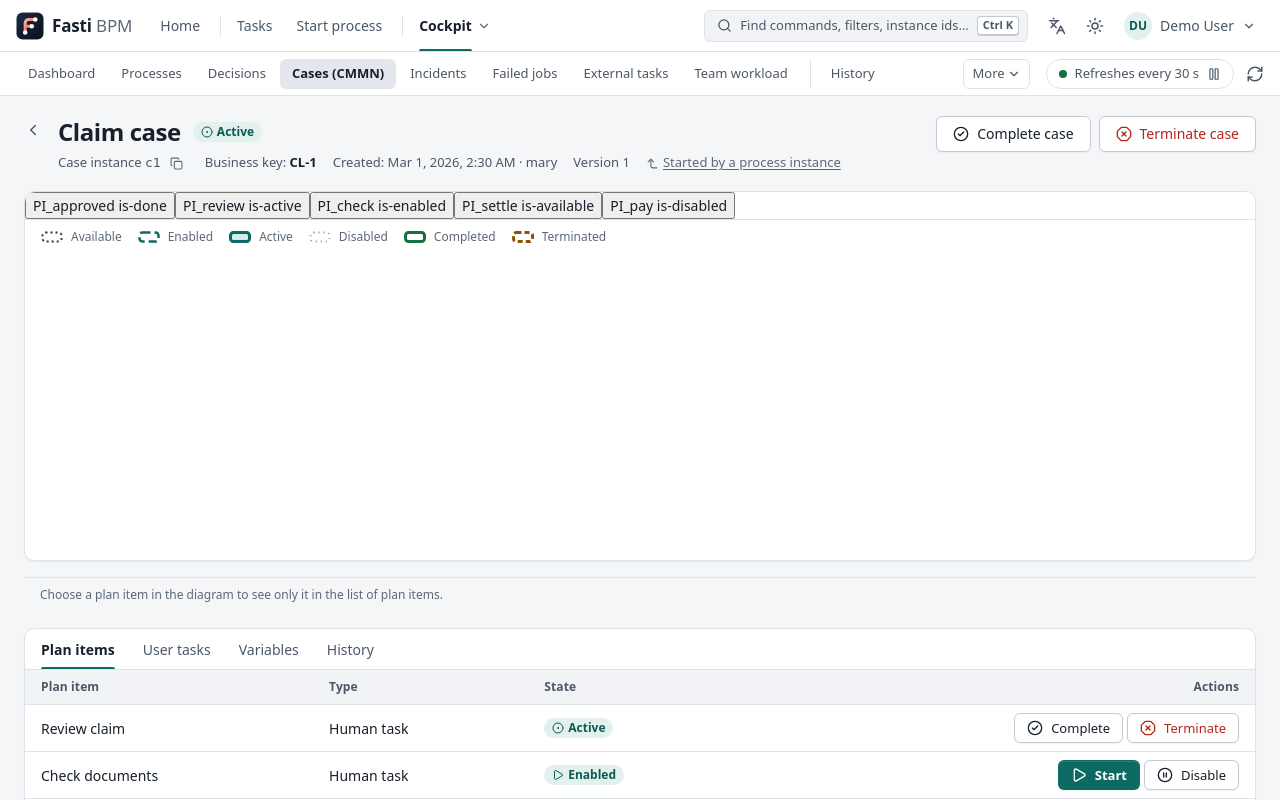
a case instance › reports a refused action with its reason and keeps the confirmation open
The width and height of the screenshot is (1280, 800).
Click the button "Complete case".
click(1013, 134)  # box x1=936 y1=116 x2=1090 y2=152
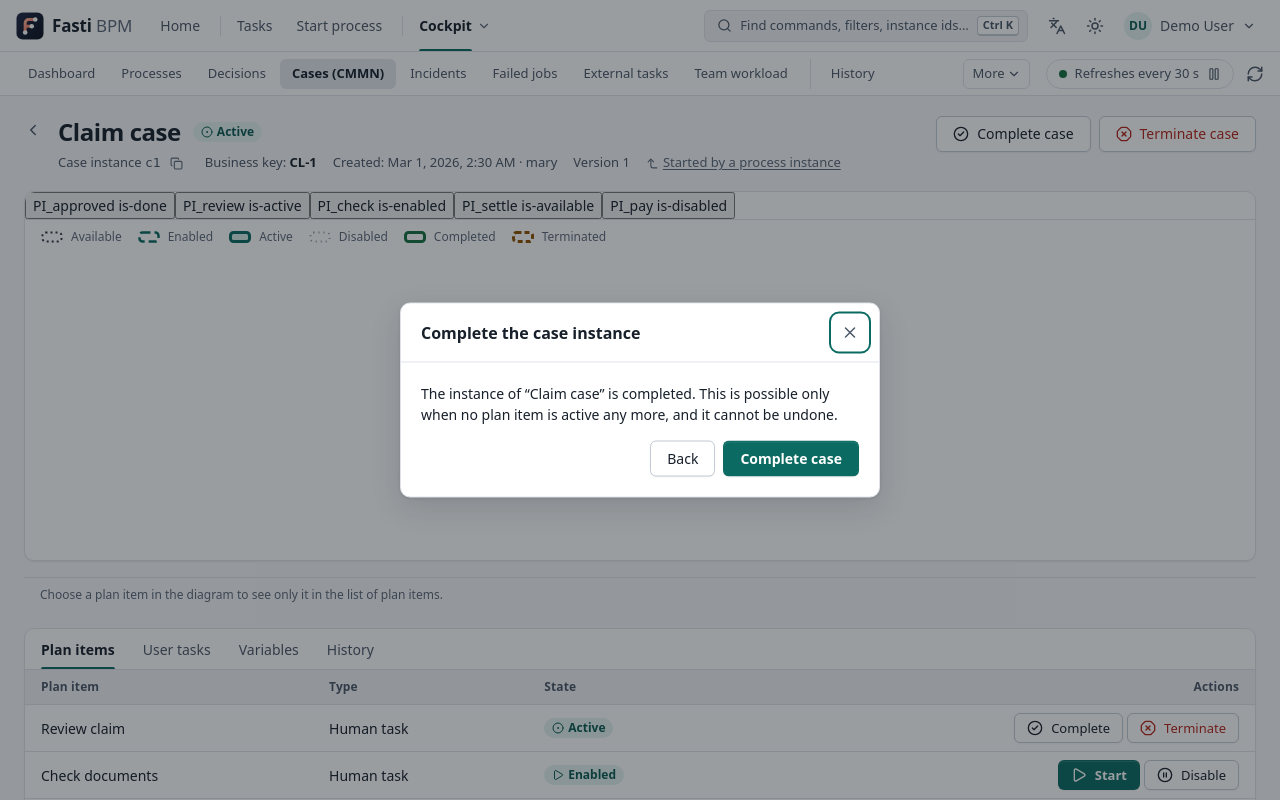
Click the button "Complete case".
click(791, 458)  # box x1=723 y1=440 x2=859 y2=476
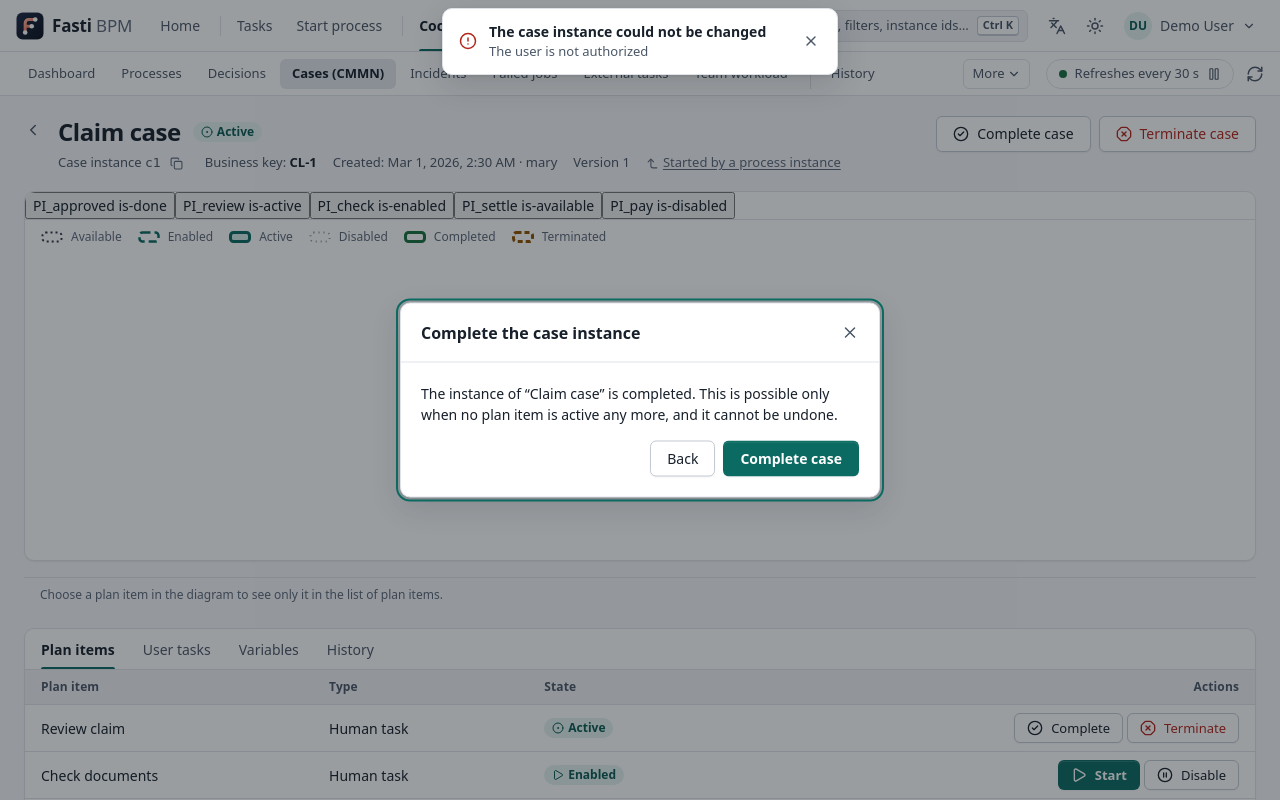
Expected: the dialog "Complete the case instance" is shown, x1=400 y1=302 x2=880 y2=498
Expected: the text "The case instance could not be changed" is shown, x1=489 y1=21 x2=785 y2=42
Expected: the text "The user is not authorized" is shown, x1=489 y1=42 x2=648 y2=60
